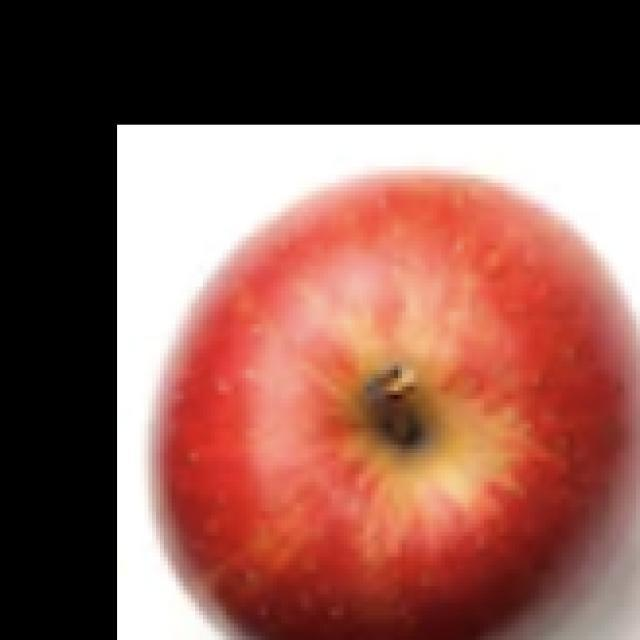Fresh Apple: (168, 180, 607, 640)
